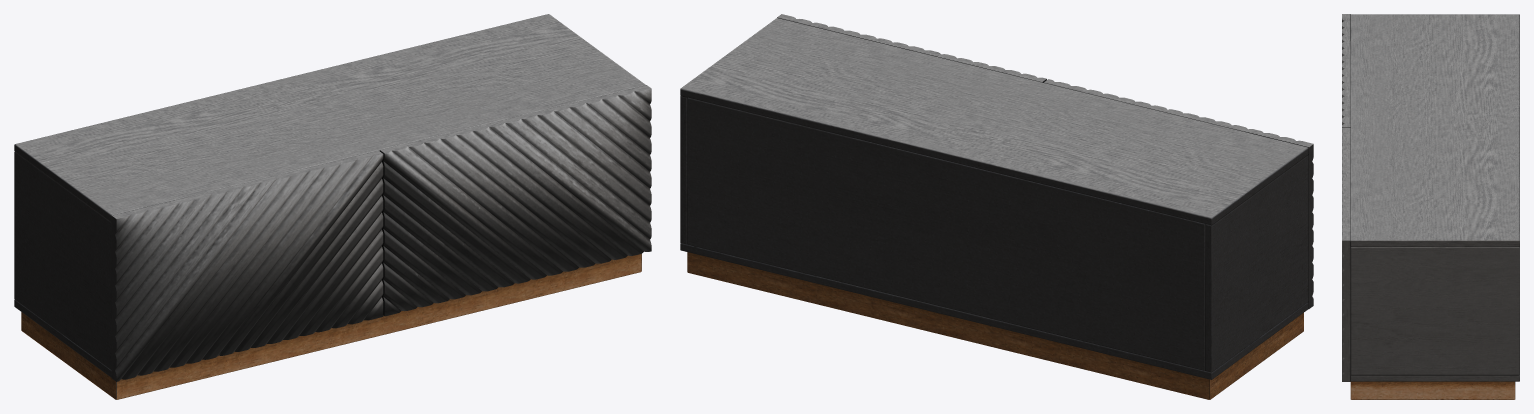
Rendered from Shelf_SideShelf1_1.2x0.4x0.4.glb.
The picture shows the model from 3 angles, left to right: view 1: azimuth 30°, elevation 25°; view 2: azimuth 150°, elevation 25°; view 3: azimuth 270°, elevation 25°; orthographic projection. The views are drawn at different scales.
Parts seen in each view (by area): view 1: Short_side_shelf_Baked; view 2: Short_side_shelf_Baked; view 3: Short_side_shelf_Baked.
Part boxes in pixels (x1=…): Short_side_shelf_Baked: x1=14, y1=14, x2=651, y2=399; Short_side_shelf_Baked: x1=680, y1=14, x2=1313, y2=399; Short_side_shelf_Baked: x1=1342, y1=14, x2=1519, y2=399.
Bounding box in the file's own units: 1.22 × 0.4052 × 0.4042.
Materials: 1 (1 with a texture image).
